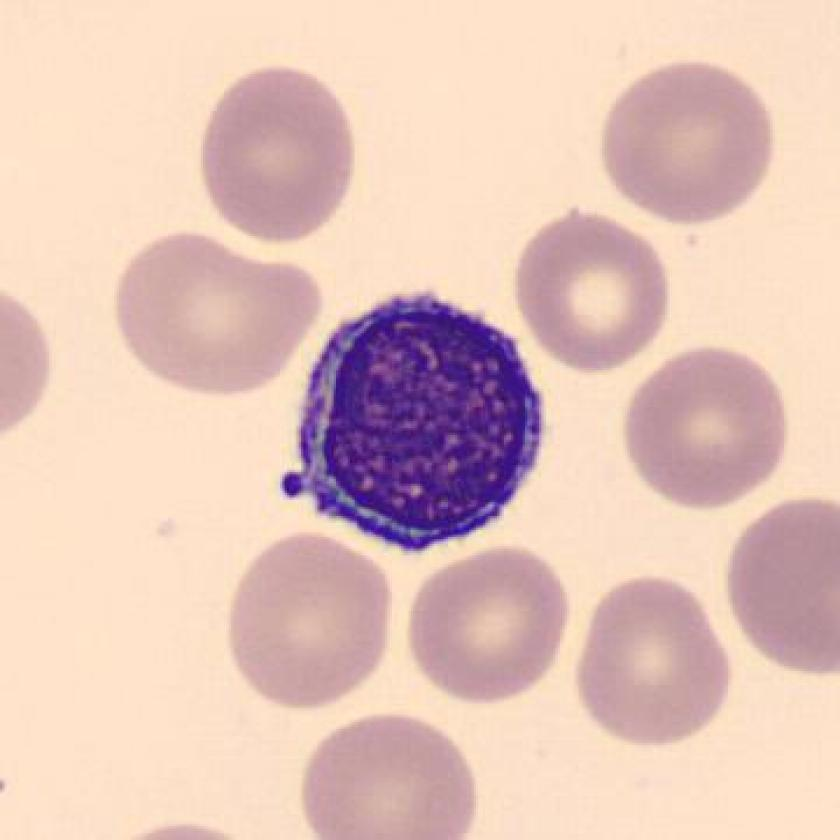lymphocyte: (267, 281, 556, 584)
